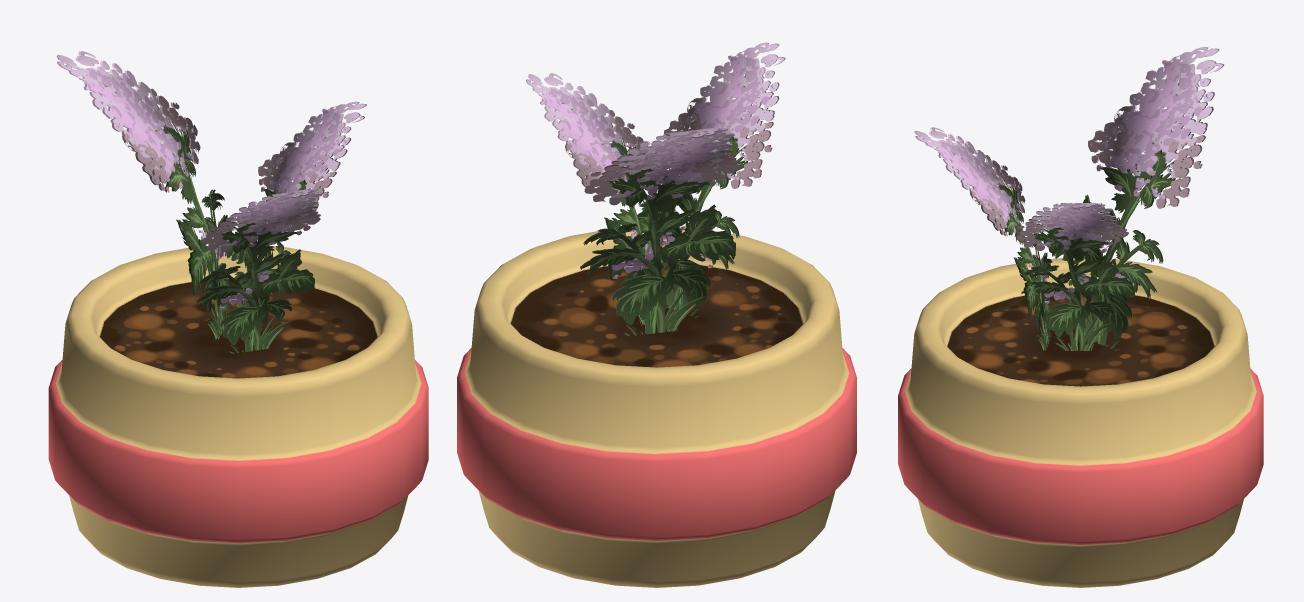
File: Catnip.fbx
The picture shows the model from 3 angles, left to right: view 1: azimuth 30°, elevation 25°; view 2: azimuth 150°, elevation 25°; view 3: azimuth 270°, elevation 25°; orthographic projection. The views are drawn at different scales.
Visible parts, largest first — view 1: Pot, Plant.001, Plant.002, Plant; view 2: Pot, Plant.001, Plant.002, Plant; view 3: Pot, Plant.001, Plant, Plant.002.
Boxes of the visible parts, x1,y1,x2,y2 form: Pot: (48,246,428,587); Plant.001: (56,51,231,340); Plant.002: (196,189,321,353); Plant: (225,101,366,336); Pot: (457,227,856,587); Plant.001: (580,127,739,336); Plant.002: (633,42,785,317); Plant: (526,73,665,325); Pot: (898,258,1263,587); Plant.001: (1052,47,1223,350); Plant: (1016,203,1134,350); Plant.002: (914,127,1052,350).
Bounding box in the file's own units: 250 × 317 × 270.
